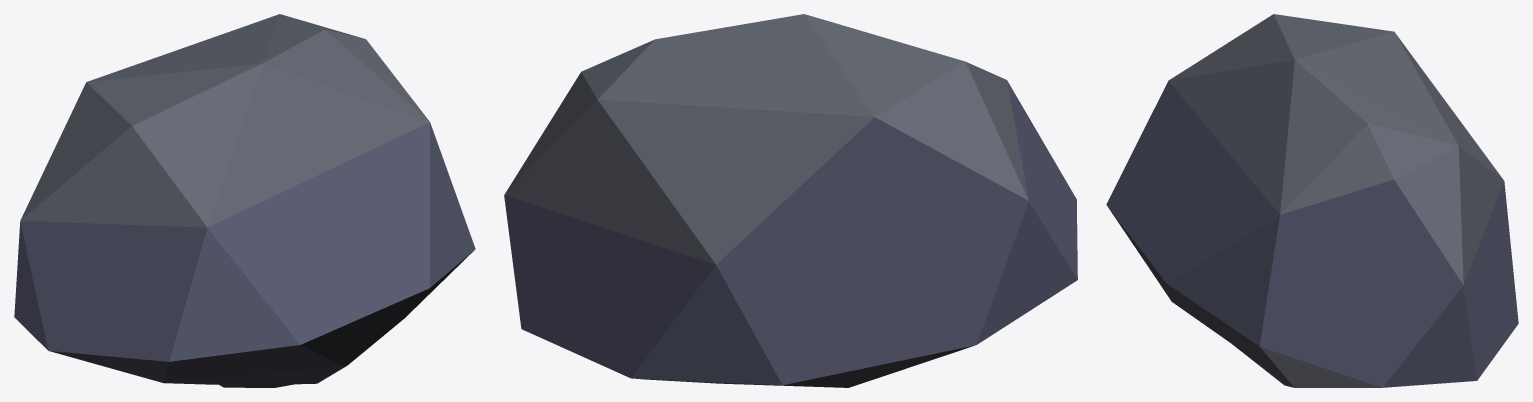
The model's file is ROCK 2(SMALL).fbx.
3 renders of one model, left to right at view 1: azimuth 30°, elevation 25°; view 2: azimuth 150°, elevation 25°; view 3: azimuth 270°, elevation 25°, orthographic. The views are drawn at different scales.
Visible parts, largest first — view 1: rock2; view 2: rock2; view 3: rock2.
Part boxes in pixels (<box>): rock2: <box>14,14,475,387</box>; rock2: <box>504,14,1077,387</box>; rock2: <box>1106,14,1518,387</box>.
Bounding box in the file's own units: 159 × 110 × 136.
